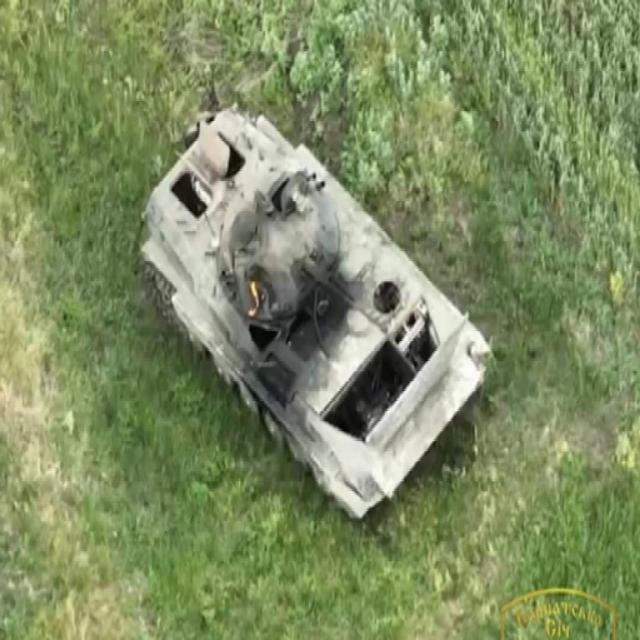APC-IFV: (138, 84, 492, 538)
